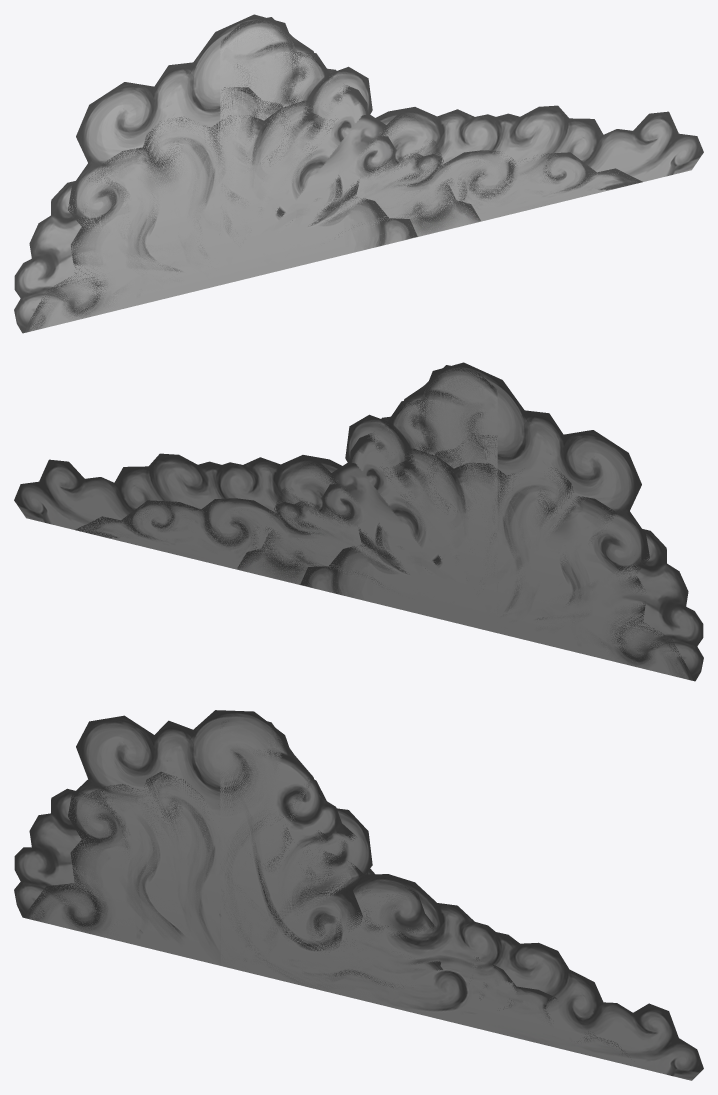
The model's file is clouds.fbx.
3 renders of one model, top to bottom at view 1: azimuth 30°, elevation 25°; view 2: azimuth 150°, elevation 25°; view 3: azimuth 330°, elevation 25°, orthographic.
Parts seen in each view (by area): view 1: Cloud_2, Cloud_4, Cloud_1, Cloud_3; view 2: Cloud_2, Cloud_4, Cloud_1, Cloud_3; view 3: Cloud_2, Cloud_3, Cloud_1, Cloud_4.
Part boxes in pixels (bbox=[...]): Cloud_2: bbox=[23, 14, 417, 333]; Cloud_4: bbox=[14, 100, 480, 332]; Cloud_1: bbox=[220, 17, 642, 247]; Cloud_3: bbox=[220, 87, 703, 251]; Cloud_2: bbox=[300, 362, 694, 681]; Cloud_4: bbox=[237, 448, 703, 680]; Cloud_1: bbox=[75, 365, 497, 631]; Cloud_3: bbox=[14, 435, 497, 614]; Cloud_2: bbox=[23, 710, 372, 984]; Cloud_3: bbox=[220, 827, 703, 1080]; Cloud_1: bbox=[220, 721, 626, 1053]; Cloud_4: bbox=[14, 771, 442, 970].
Size of the model in its own units: 716 by 260 by 0.
